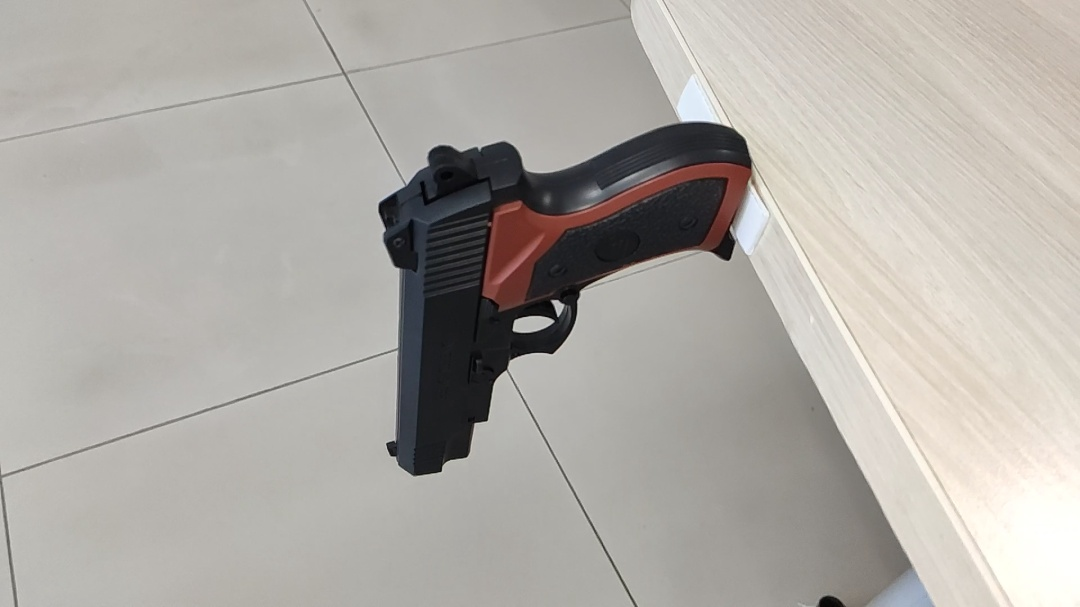gun: (420, 198, 579, 365)
